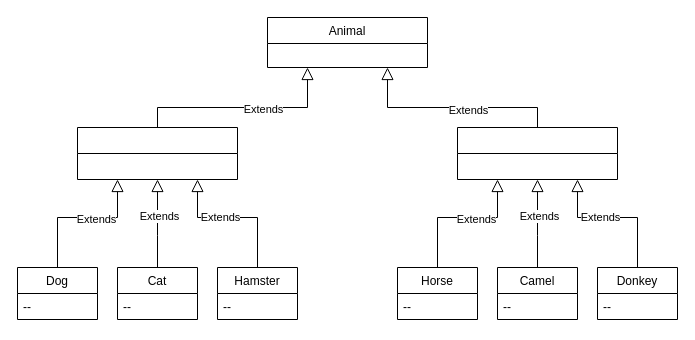
Image size: 695x340. Some labels were removed from this diagram. Here are the shapes that lost their labels. From the top down, the centre of each, then its label:
At (x=157, y=153): "Pet".
At (x=537, y=153): "PackAnimal".
